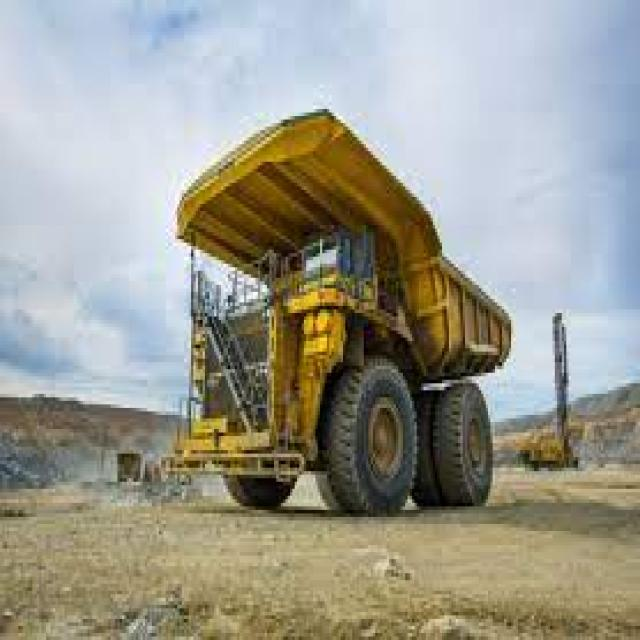dump_truck: (170, 95, 500, 531)
